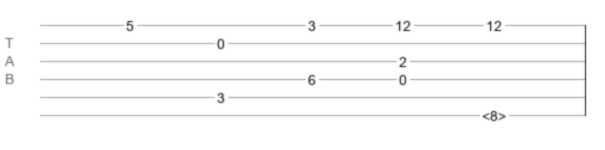0: (217, 36, 225, 46), (399, 72, 407, 82)
12: (395, 18, 411, 28), (486, 18, 502, 28)
2: (399, 54, 407, 64)
3: (217, 90, 225, 100), (308, 18, 316, 28)
5: (126, 18, 134, 28)
6: (308, 72, 316, 82)
harmonic: (482, 108, 506, 118)
